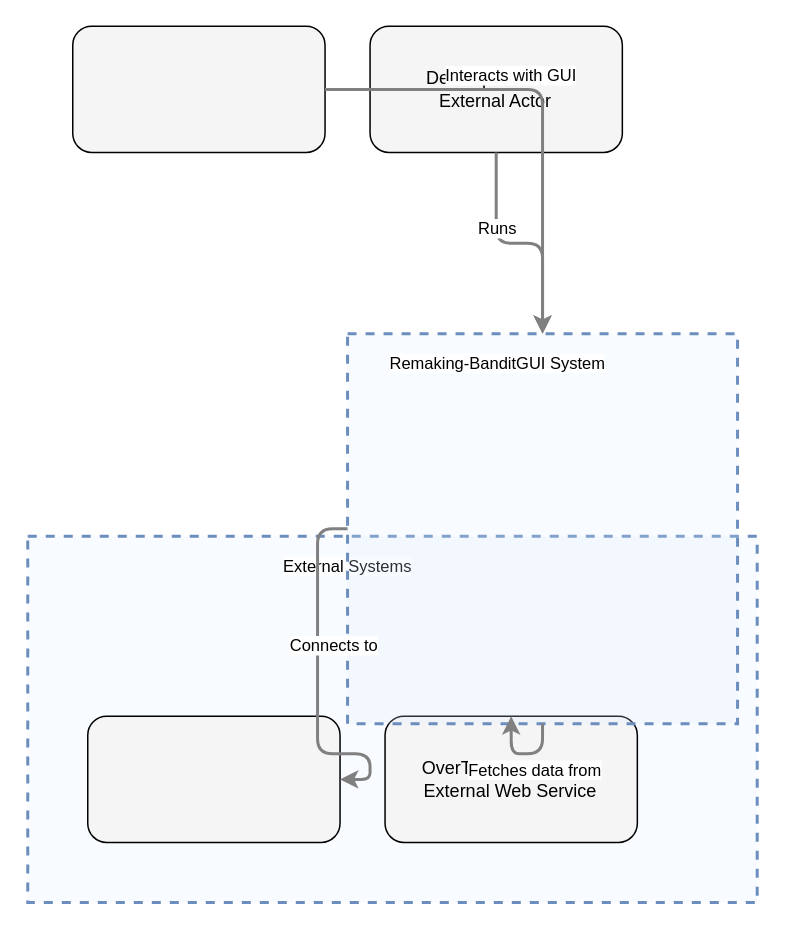
The diagram is 785 pixels wide and 930 high, and some of its shapes have lost their labels. The shapes that lost their labels are listed below. From the top down, each one's centre as x and y in pixels, then its label:
At (x=198, y=88): "User External Actor".
At (x=213, y=778): "Bandit Wargame Server External SSH Server".
